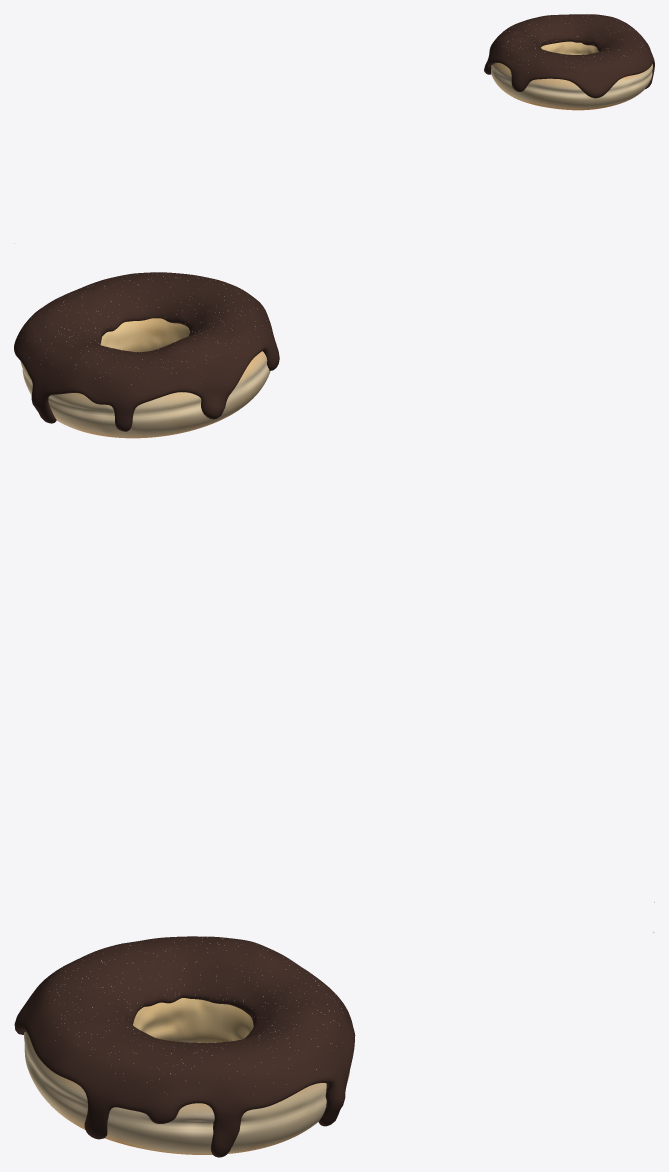
File: donatte.glb
3 renders of one model, top to bottom at view 1: azimuth 30°, elevation 25°; view 2: azimuth 150°, elevation 25°; view 3: azimuth 270°, elevation 25°, orthographic. The views are drawn at different scales.
Parts seen in each view (by area): view 1: icing, donut; view 2: icing, donut; view 3: icing, donut.
Part boxes in pixels (bbox=[...]): icing: bbox=[484, 14, 654, 98]; donut: bbox=[491, 41, 652, 110]; icing: bbox=[14, 272, 279, 431]; donut: bbox=[20, 318, 270, 438]; icing: bbox=[14, 936, 355, 1157]; donut: bbox=[24, 998, 349, 1154].
Bounding box in the file's own units: 5.99 × 2.1 × 3.23.
Materials: 4 (1 with a texture image).
